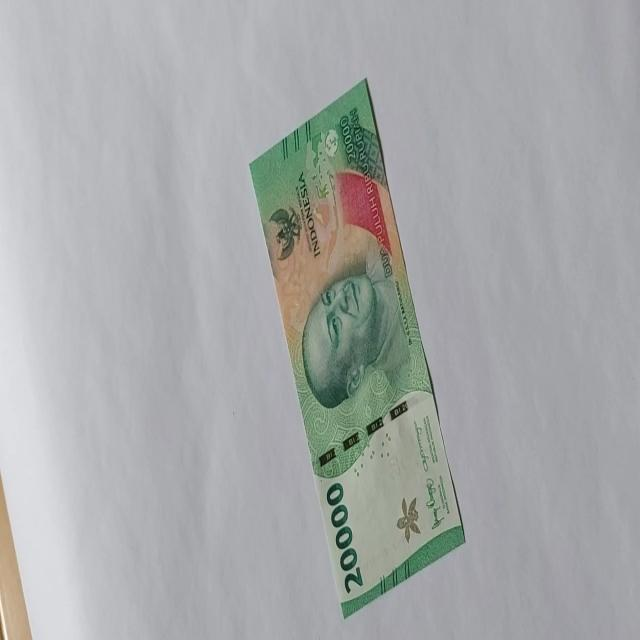dua puluh ribu rupiah: (248, 75, 466, 618)
